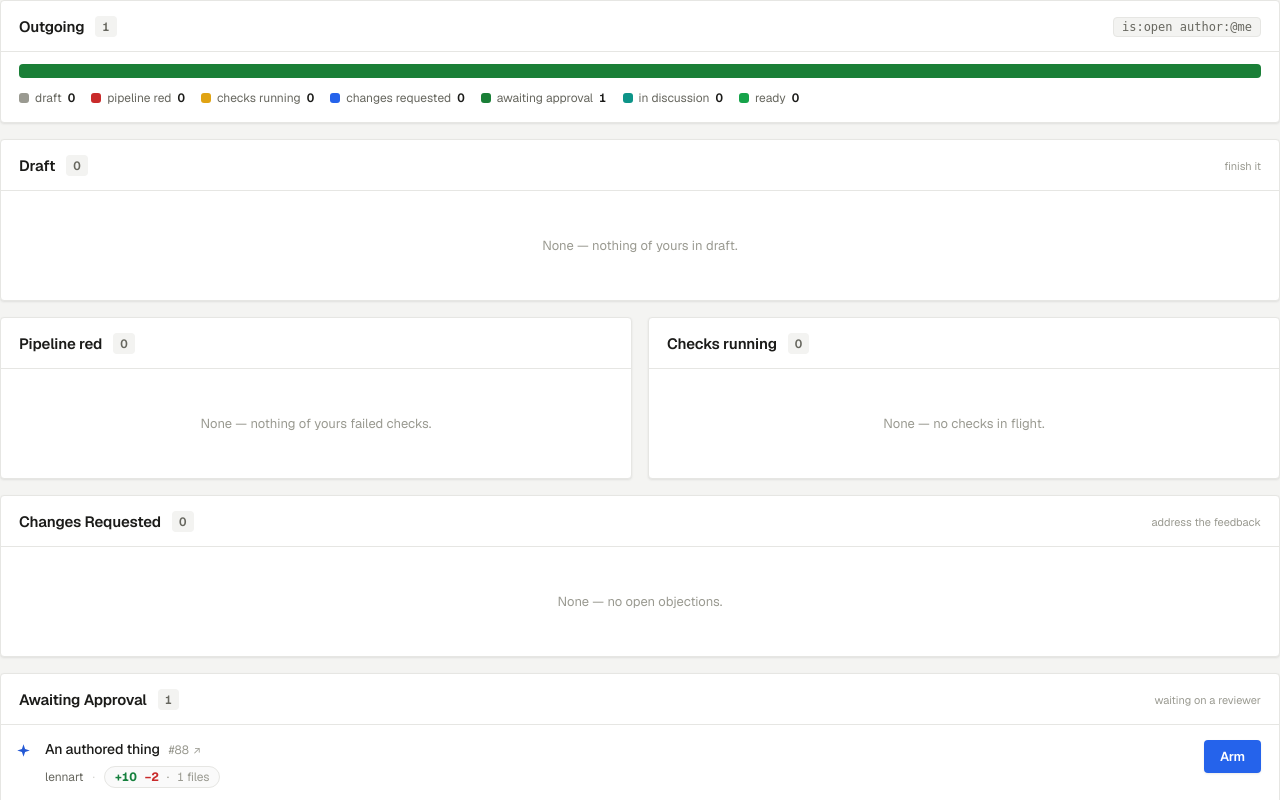
Test: Outbound funnel — diff pill › opens the diff card when an outbound row's pill is clicked
The width and height of the screenshot is (1280, 800).
Click the button with aria-label "view diff for #88": (162,777) x1=104 y1=766 x2=220 y2=788
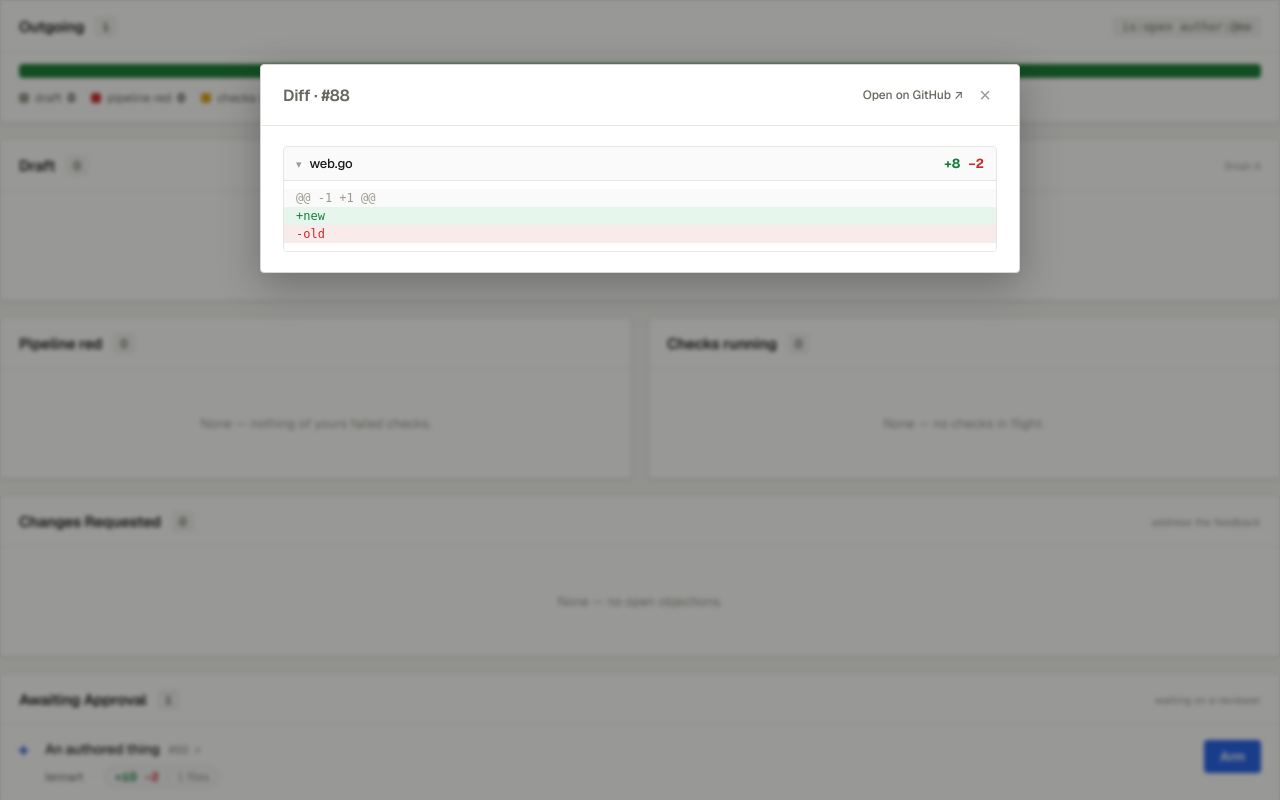
Now the text "web.go" is shown, box x1=310 y1=155 x2=353 y2=172
Now the dialog is shown, box x1=260 y1=64 x2=1020 y2=273
